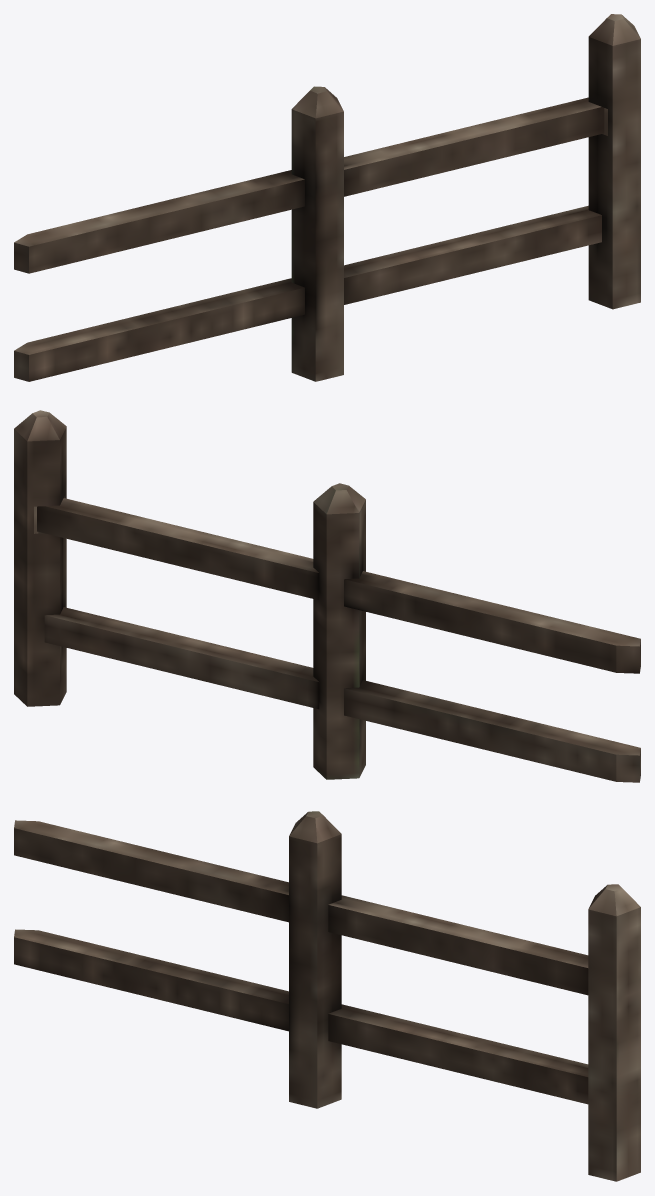
Rendered from walls_v001_fence.obj.
3 views of the same model, one above another, from view 1: azimuth 30°, elevation 25°; view 2: azimuth 150°, elevation 25°; view 3: azimuth 330°, elevation 25° (orthographic).
Parts seen in each view (by area): view 1: treefence_low; view 2: treefence_low; view 3: treefence_low.
Boxes of the visible parts, bbox=[...] form: treefence_low: bbox=[14, 14, 640, 381]; treefence_low: bbox=[14, 410, 640, 782]; treefence_low: bbox=[14, 811, 640, 1181].
Bounding box in the file's own units: 5.27 × 2.28 × 0.3686.
